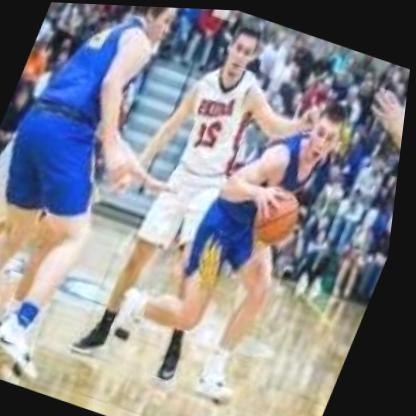basketball: (251, 180, 316, 248)
